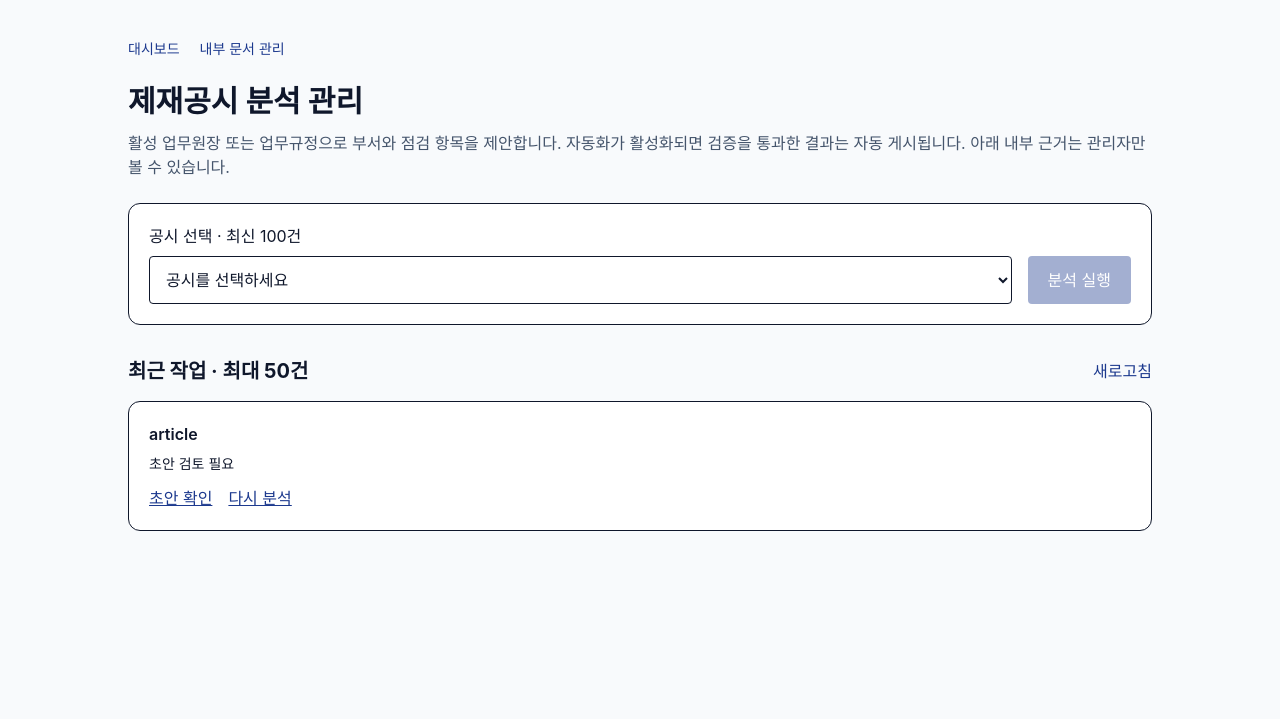
Test: inspection administrator screen › renders department proposals, checks and private references without a publish button
The image size is (1280, 719).
Click the button "초안 확인": point(181, 498) [149, 486, 212, 510]
(page scrolled)
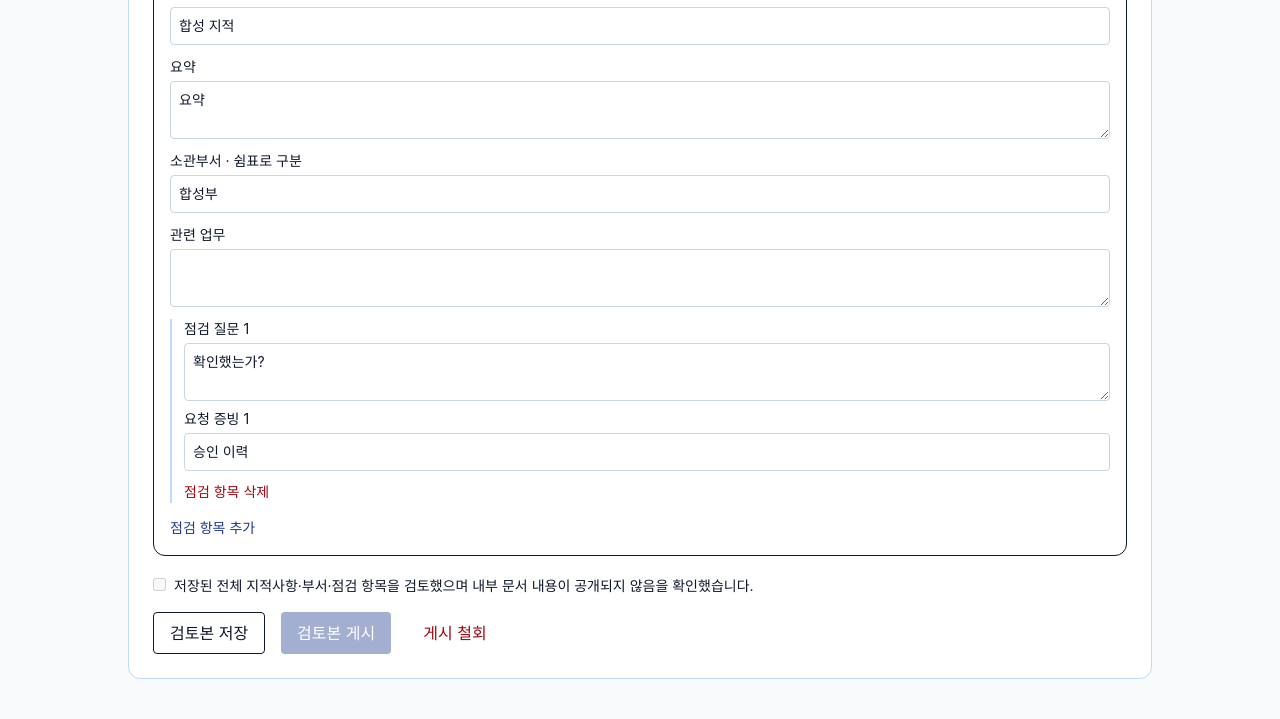
Expected: the button "검토본 게시" is disabled, [281, 612, 391, 654]
